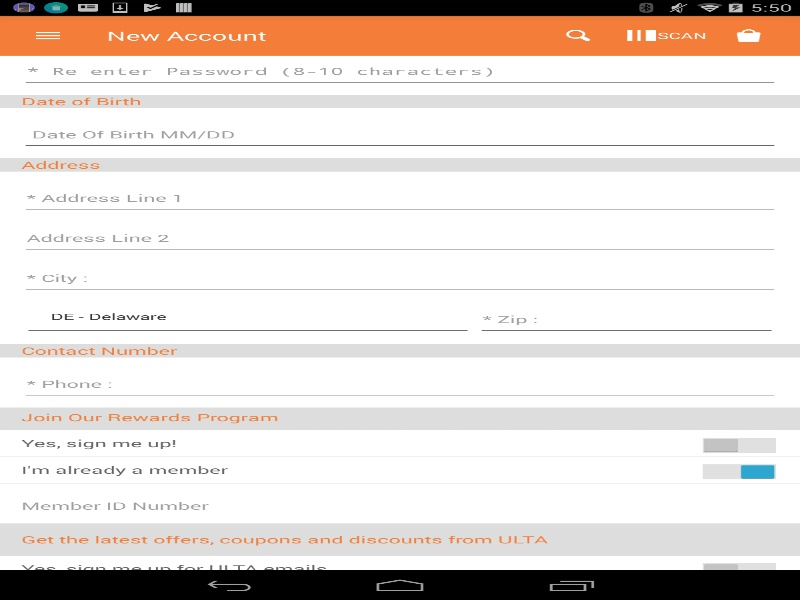Button: (10, 15, 85, 55)
Input: (0, 483, 800, 523), (21, 44, 778, 84), (21, 108, 778, 148), (21, 171, 778, 211), (21, 211, 778, 251), (21, 251, 778, 291), (21, 357, 778, 397), (477, 292, 776, 332)
